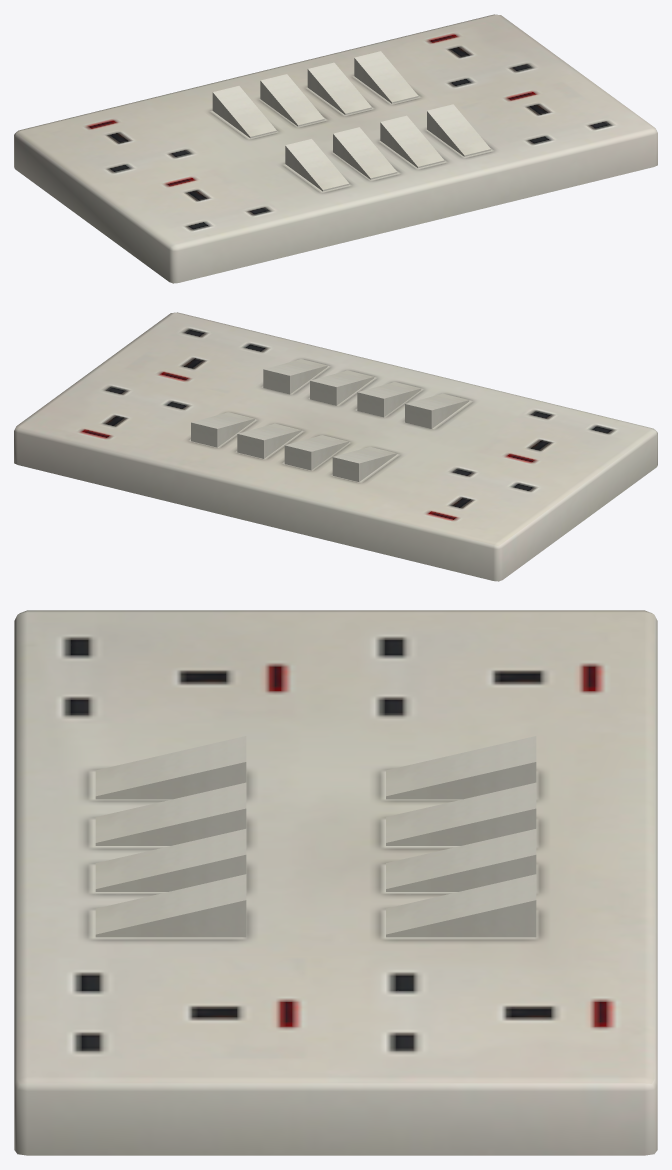
The model's file is switch board1.FBX.
The picture shows the model from 3 angles, top to bottom: view 1: azimuth 30°, elevation 25°; view 2: azimuth 150°, elevation 25°; view 3: azimuth 270°, elevation 25°; orthographic projection. The views are drawn at different scales.
Visible parts, largest first — view 1: switch board1; view 2: switch board1; view 3: switch board1.
Boxes of the visible parts, x1,y1,x2,y2 form: switch board1: [14, 14, 657, 283]; switch board1: [14, 312, 657, 581]; switch board1: [14, 610, 657, 1155].
Size of the model in its own units: 10.27 by 5.87 by 1.11.
